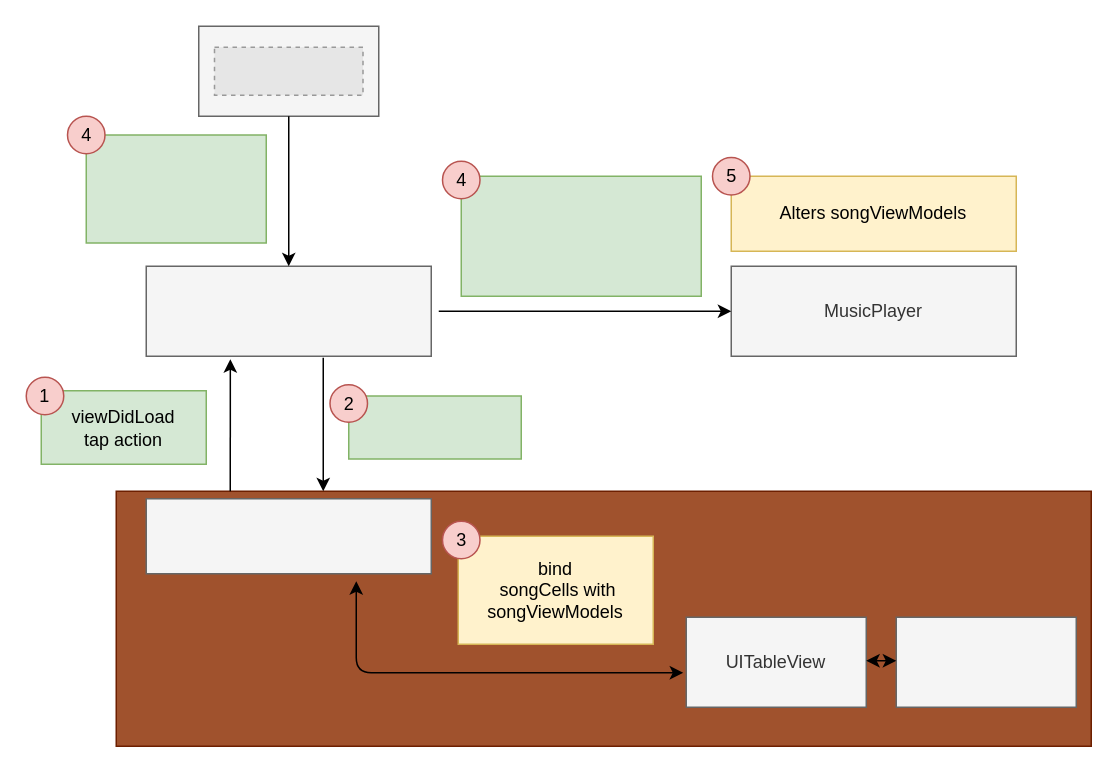
This 1118x773 diagram has some shape labels left out. Grey dashed boxes stand in for pictures. The box of each missing label's shape, as (x1, y1, x2, y2) in pixels:
MeditationViewController: (145, 497, 431, 574)
MeditationViewModel: (145, 265, 431, 356)
previous song next song go to Listening mode go to Picking mode: (85, 134, 266, 243)
previous song next song go to Listening mode go to Picking mode tap action: (460, 175, 701, 296)
SongCell: (895, 616, 1076, 707)
update songViewModels: (347, 394, 521, 459)
